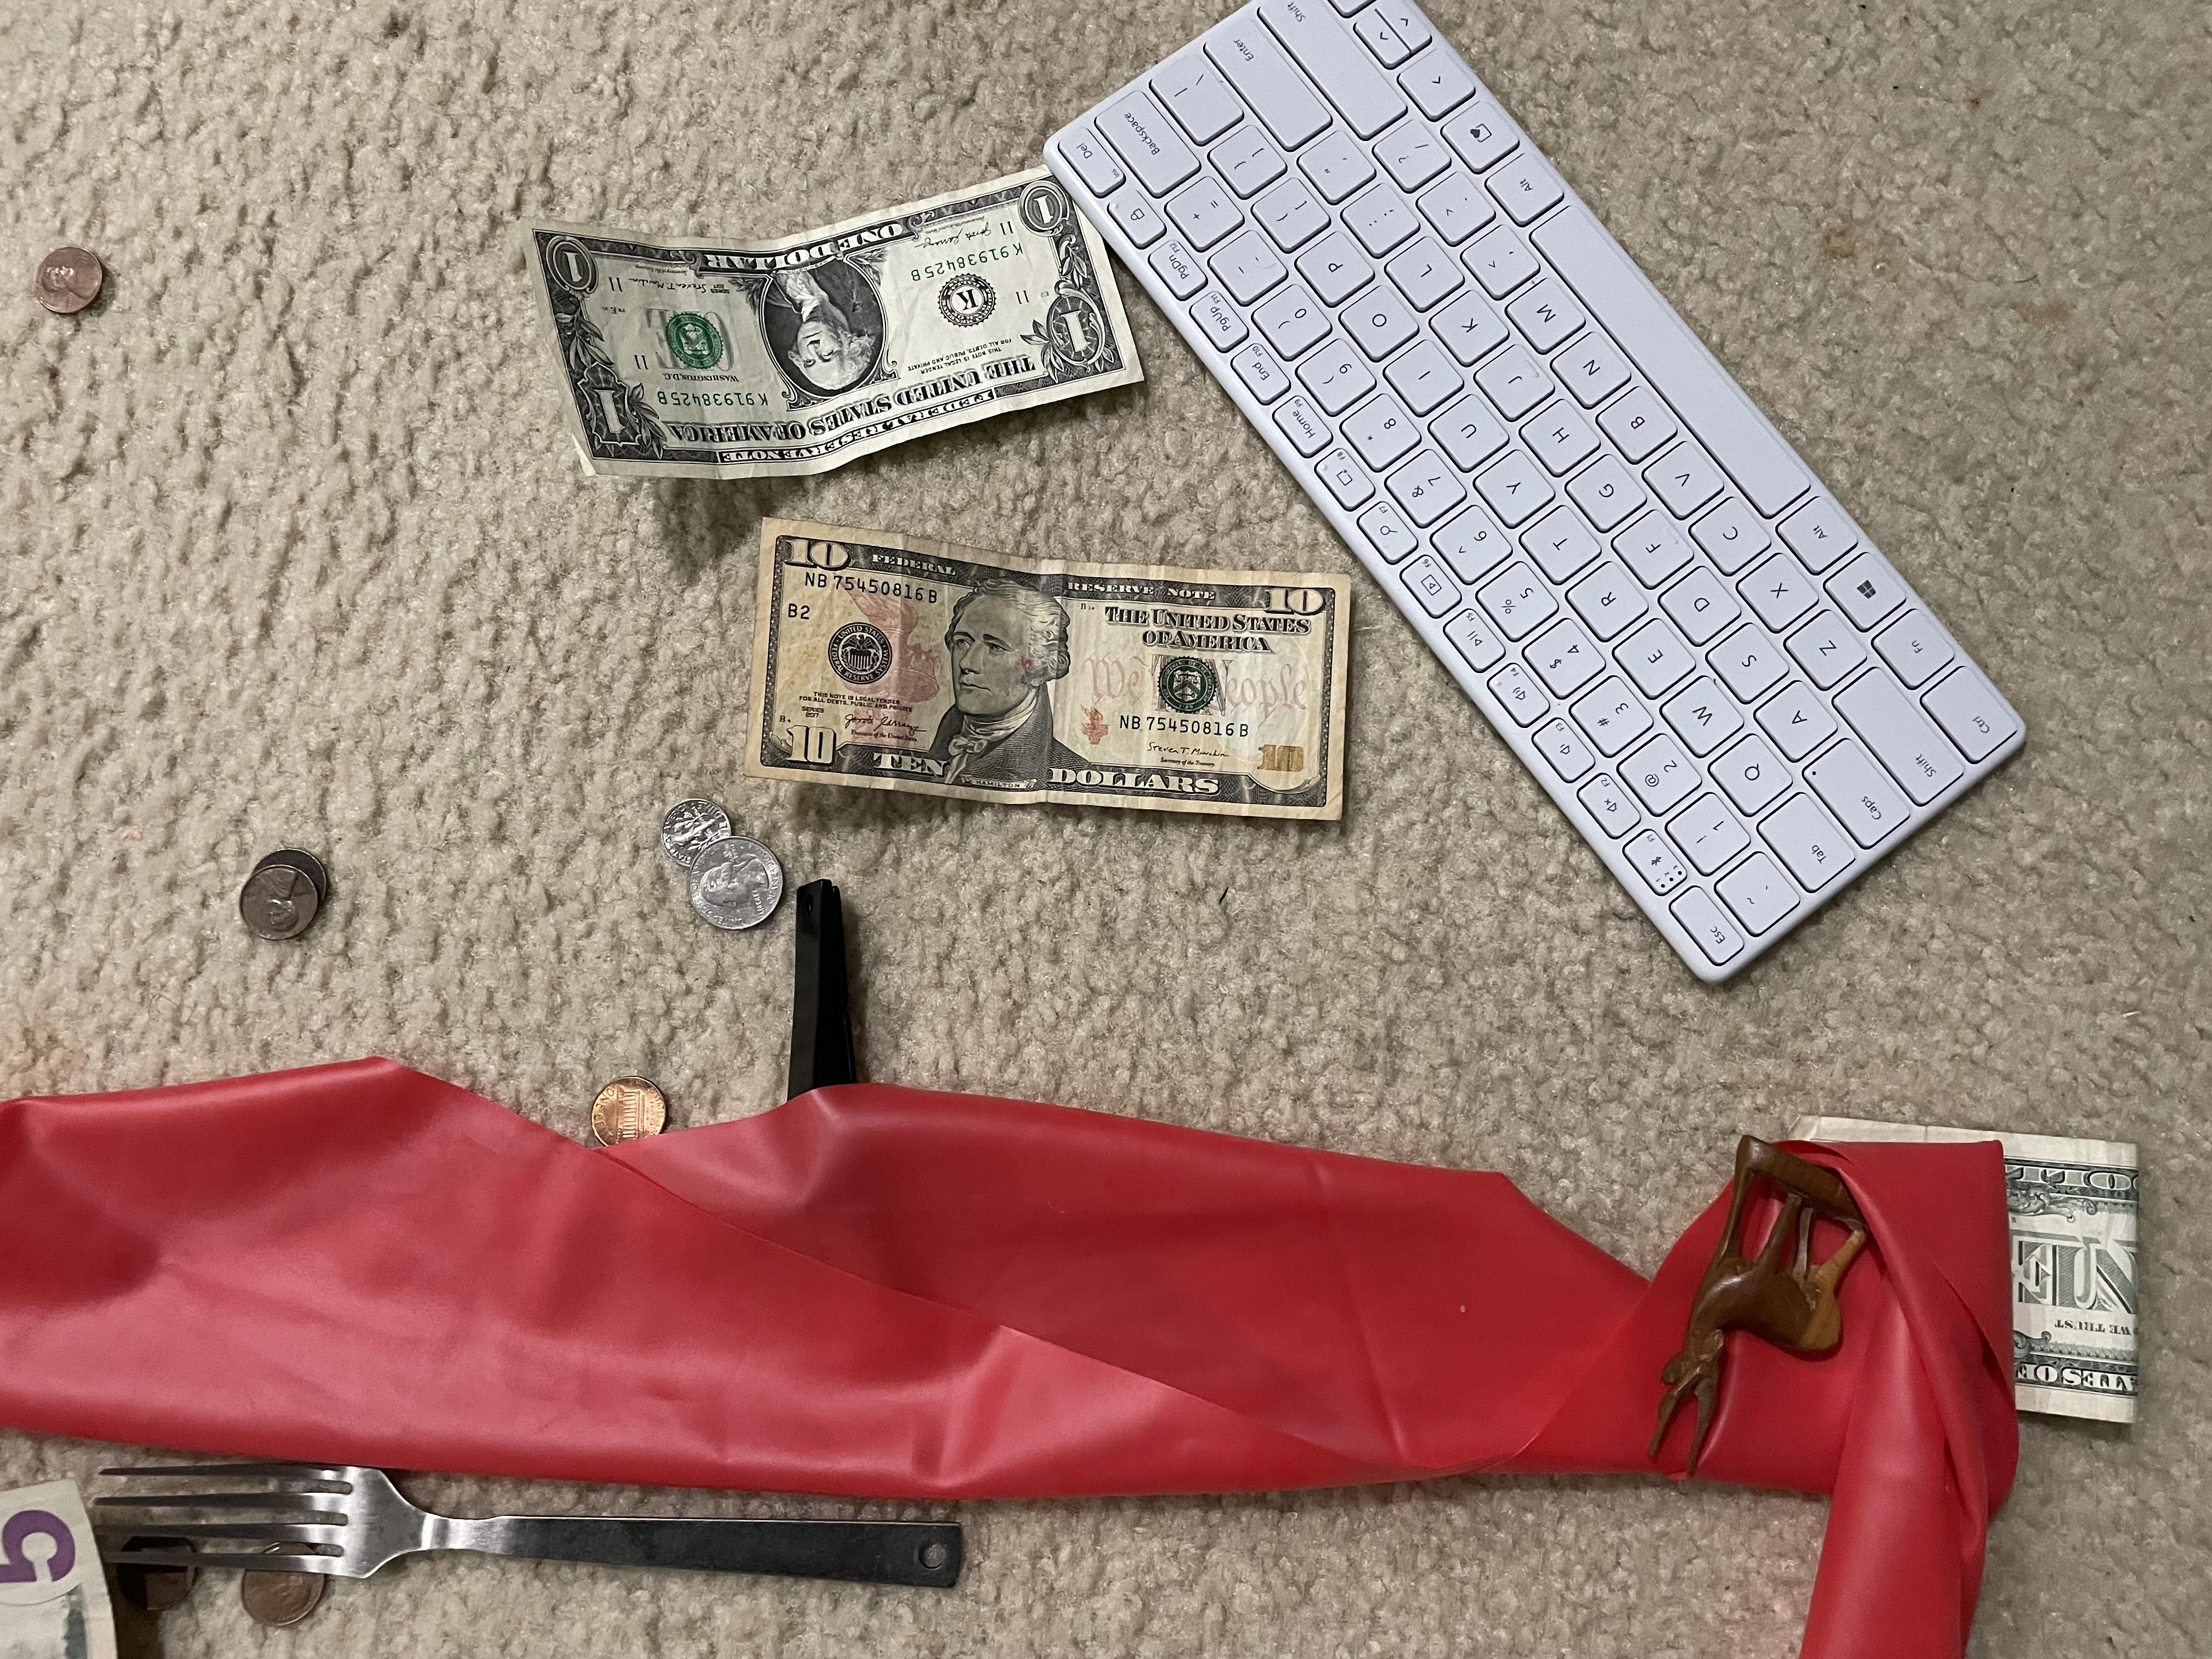Dime: (657, 800, 737, 868)
OneBill: (516, 162, 1144, 484)
Penny: (235, 863, 320, 938), (26, 246, 108, 319), (594, 1079, 671, 1148)
Quarter: (691, 835, 780, 936)
TenBill: (749, 511, 1372, 835)
